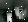person: (21, 7, 27, 19), (8, 11, 13, 22), (16, 8, 20, 17)
